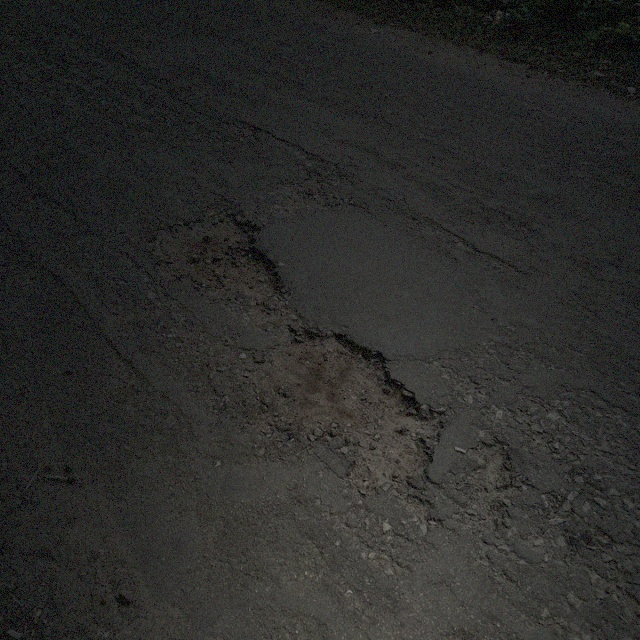pothole: (239, 326, 442, 486), (140, 204, 294, 312), (464, 442, 515, 495)
